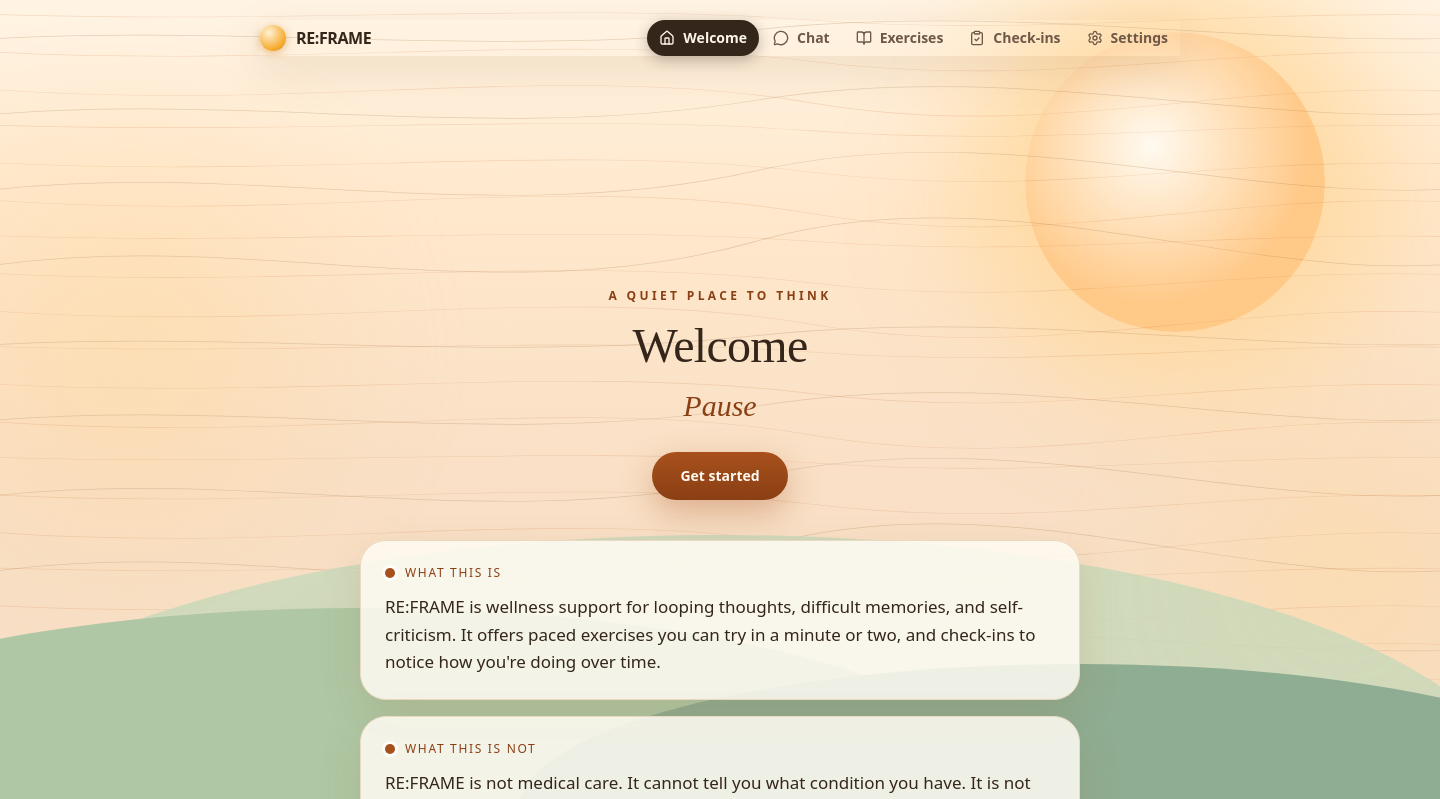
AppShell › renders the Chat page with its heading
Click the link "Chat": [801, 38] box [773,28,830,47]
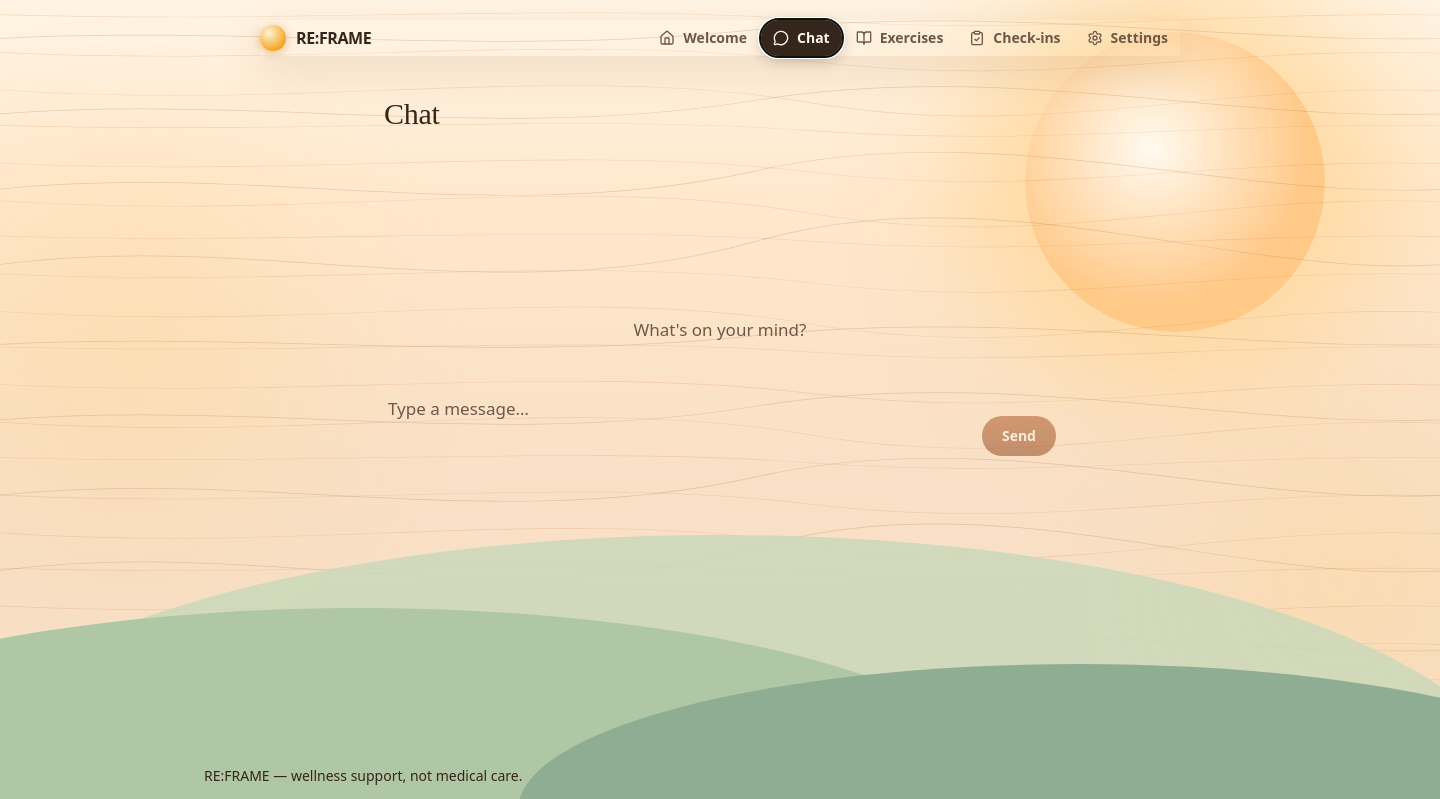
expect the heading "Chat" is shown: met, box [384,97,440,130]
